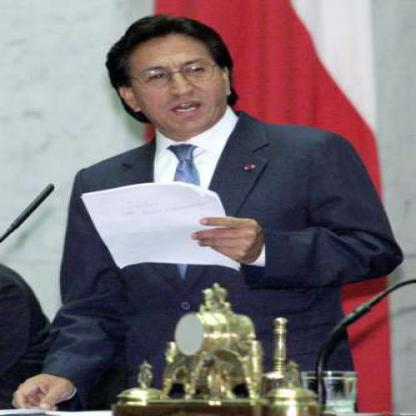face: (129, 22, 225, 137)
